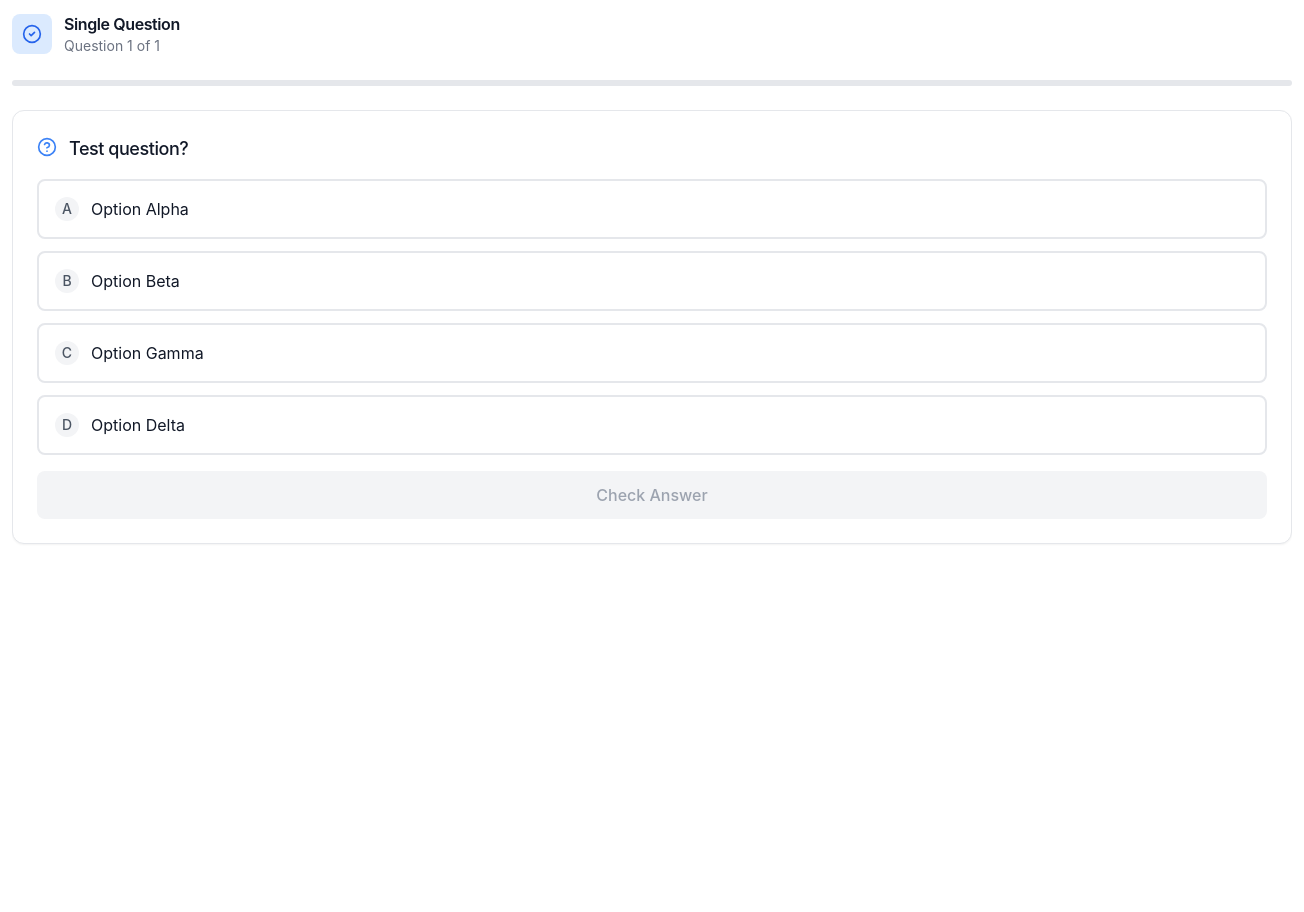
Test case: CheckpointView › shows completion screen after last question
The image size is (1304, 912).
Answer the only question correctly (Option Alpha is at index 0)
Click the button with test id "option-0".
click(140, 209)  # box [37,179,1267,239]
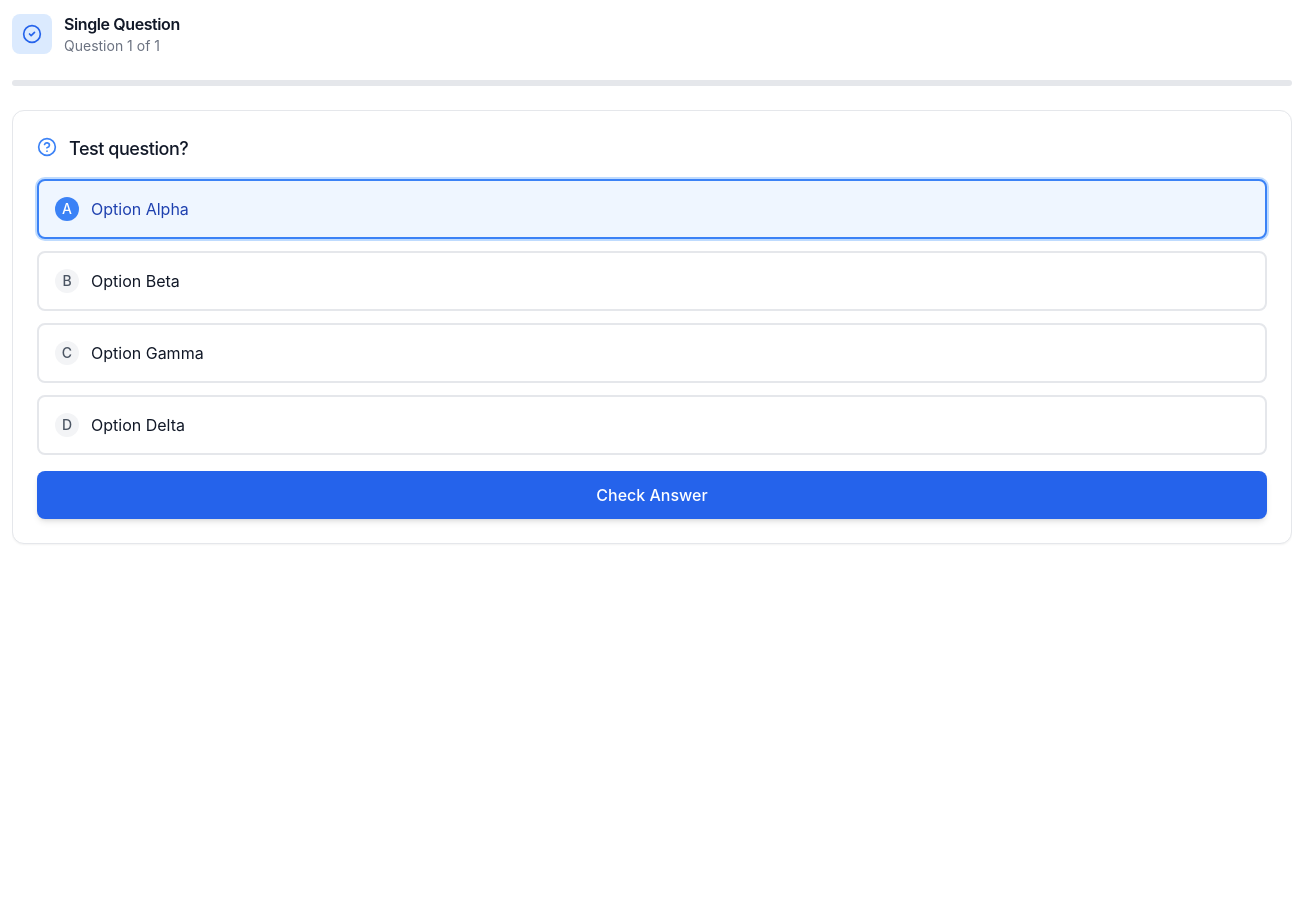
Click the button "Check Answer".
click(652, 495)  # box [37,471,1267,519]
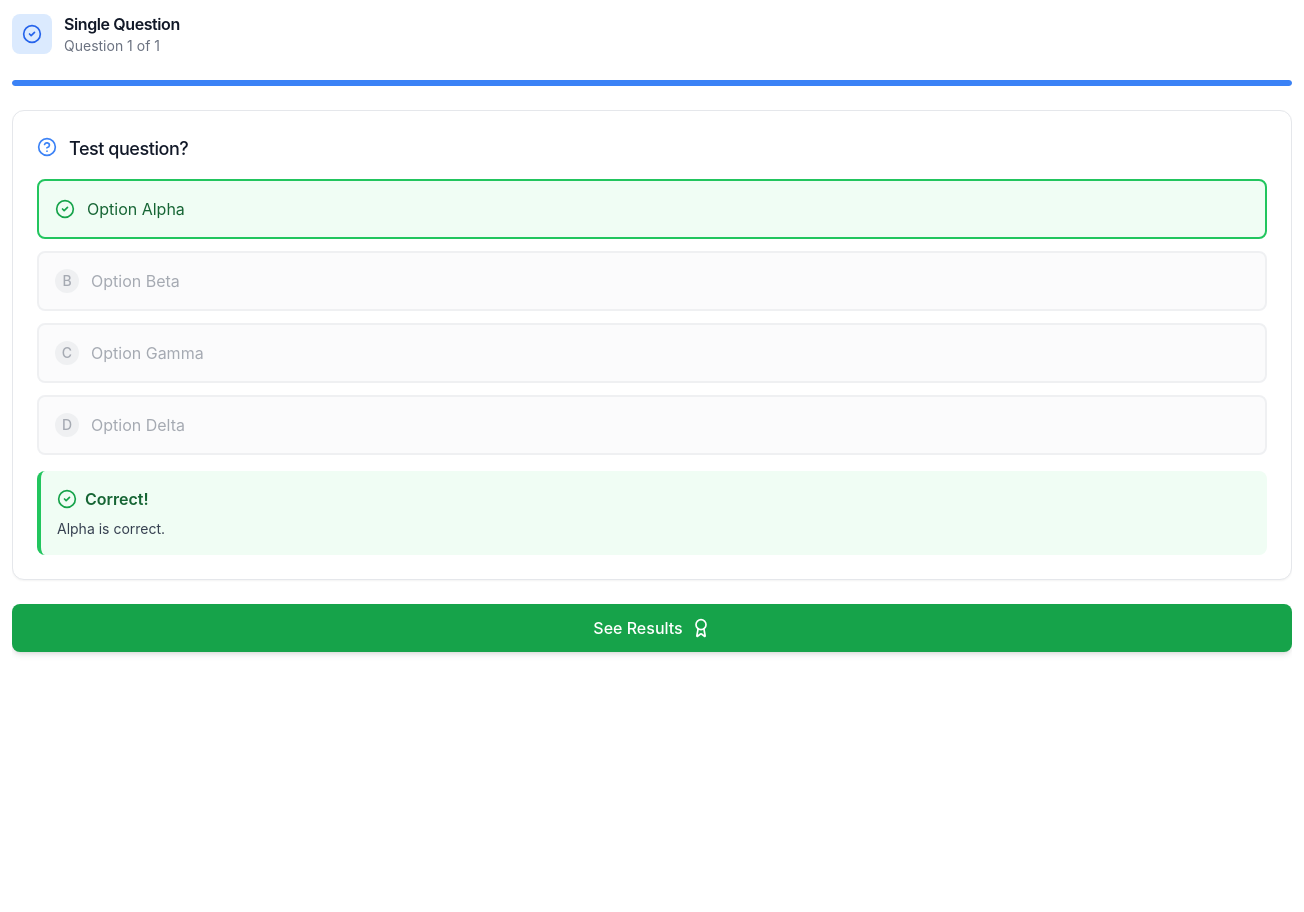
Click "See Results" button to view completion screen
Click the button with test id "finish-button".
click(652, 628)  # box [12,604,1292,652]
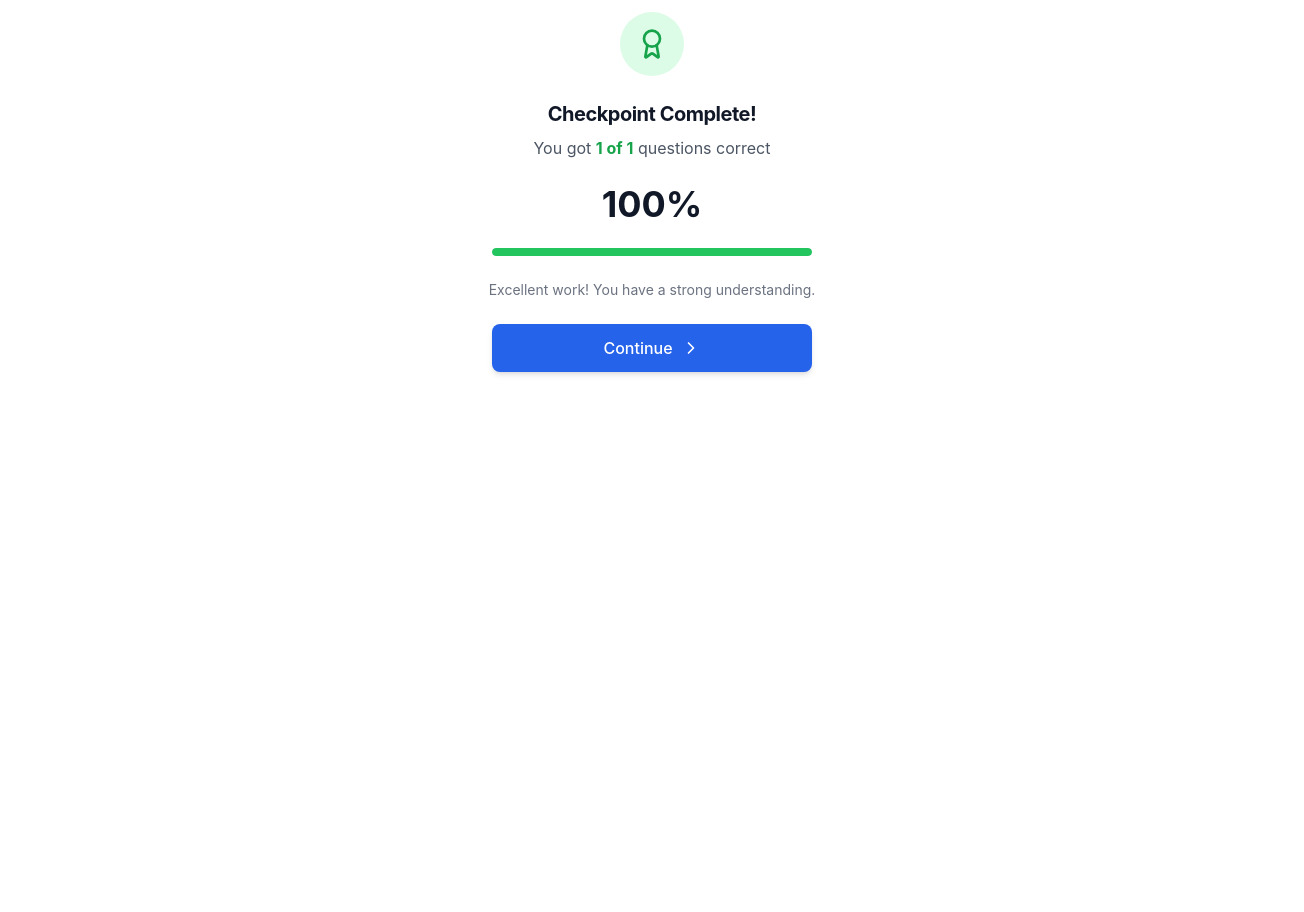
Check: the element with test id "checkpoint-complete" is shown, box [489,12,815,372]
